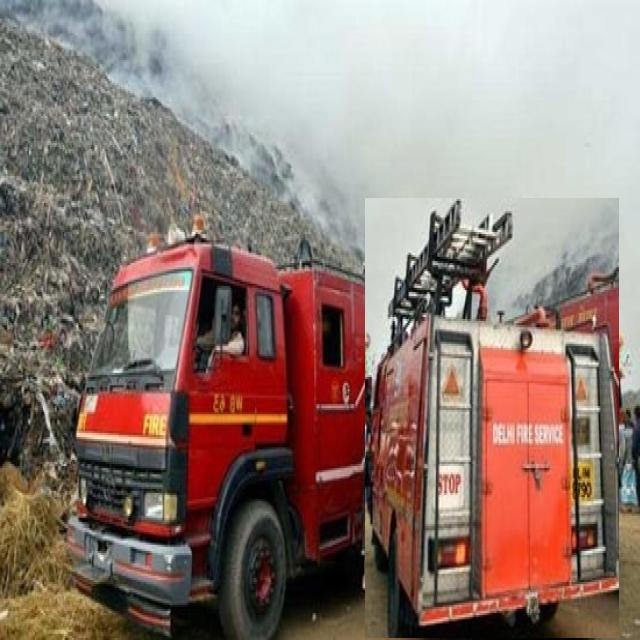emergency: (64, 233, 480, 640), (365, 199, 619, 638)
